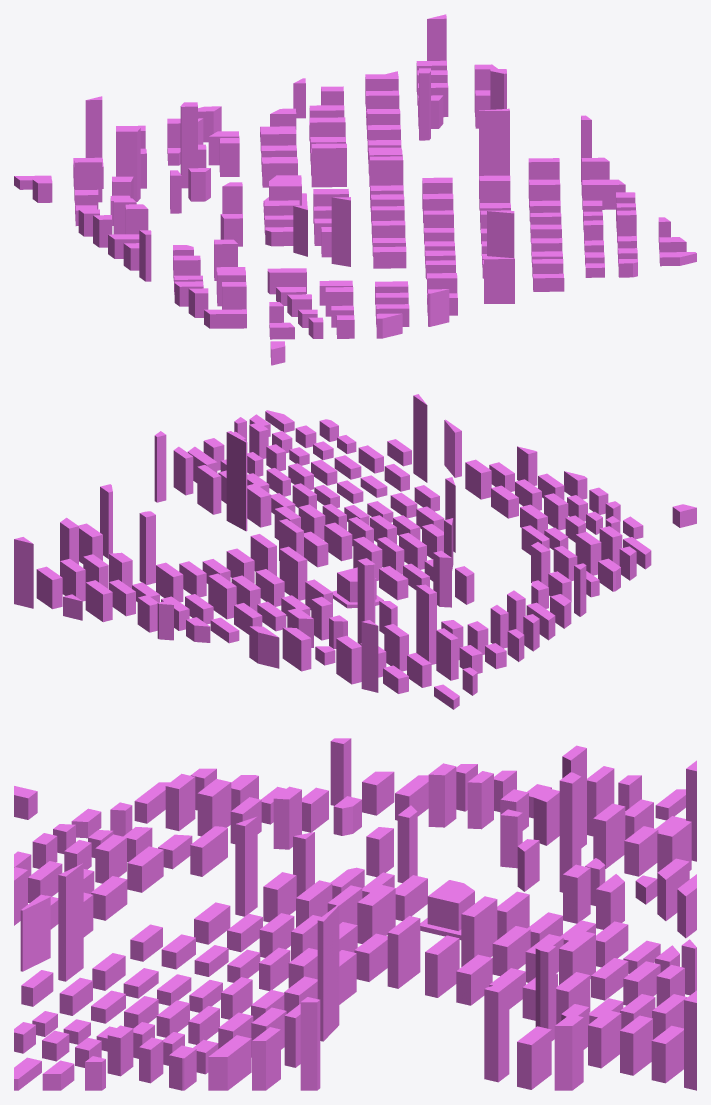
Rendered from buildings_00141.obj.
3 renders of one model, top to bottom at view 1: azimuth 30°, elevation 25°; view 2: azimuth 150°, elevation 25°; view 3: azimuth 270°, elevation 25°, orthographic. The views are drawn at different scales.
Size of the model in its own units: 1460 by 283 by 1460.
